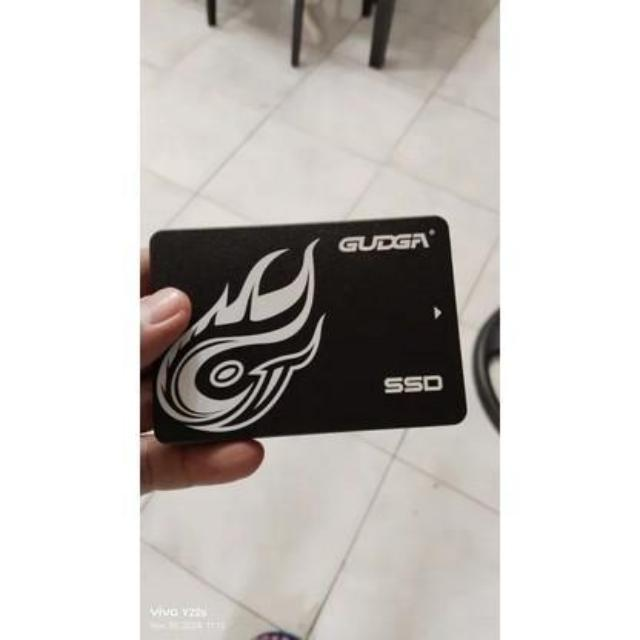DISK: (131, 217, 474, 448)
